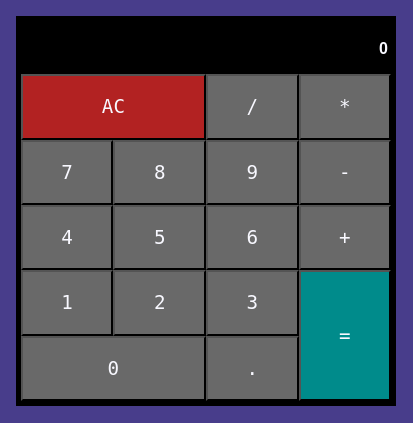
should update the display when a number is clicked
The width and height of the screenshot is (413, 423).
Click the button "6".
click(252, 238)  # box [206, 205, 299, 270]
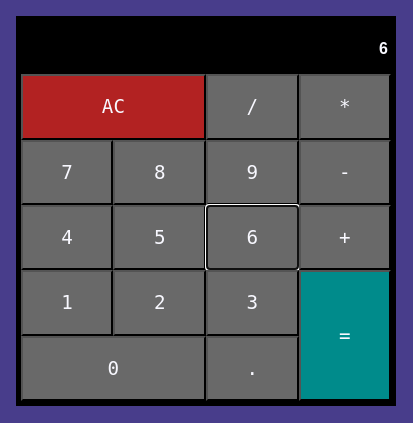
Check: the text with test id "display" reads "6", box [379, 40, 388, 57]
